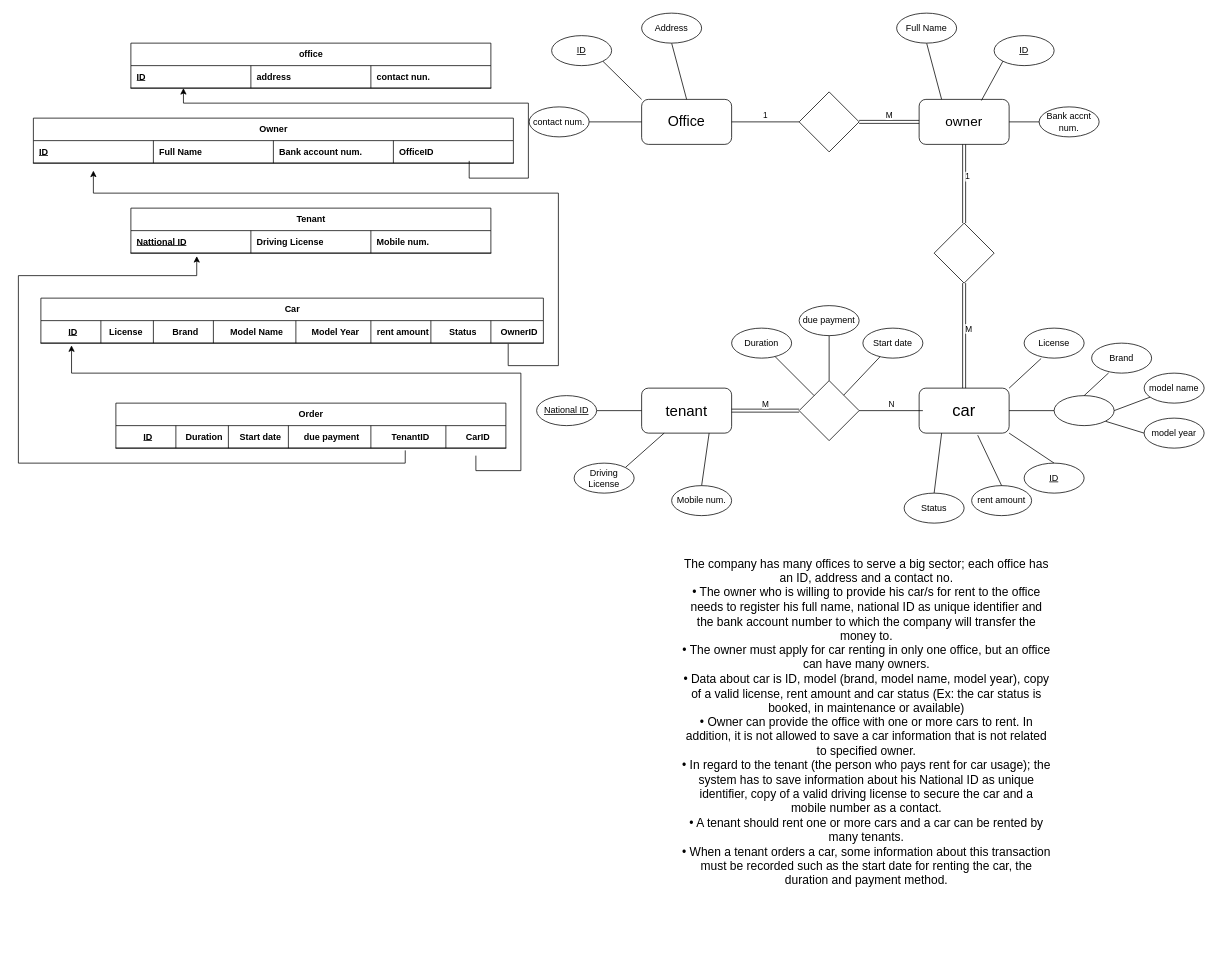
The diagram is 1217 pixels wide and 971 high, and some of its shapes have lost their labels. Each missing label, with the centre of its shape:
Model: point 1083,410
Orders: point 828,410
Owns: point 963,252
Provides: point 828,121
